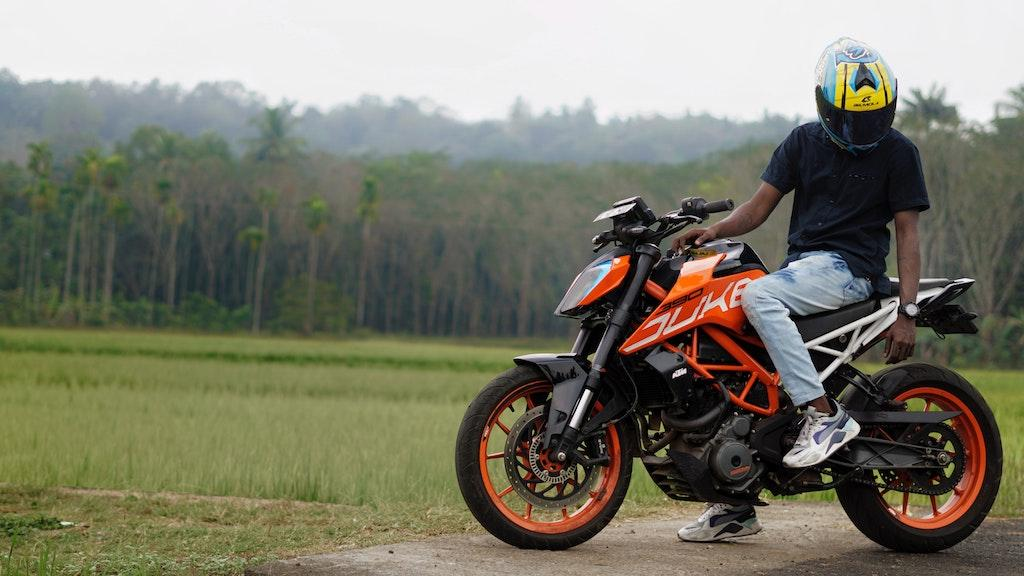helmet: (814, 35, 899, 162)
